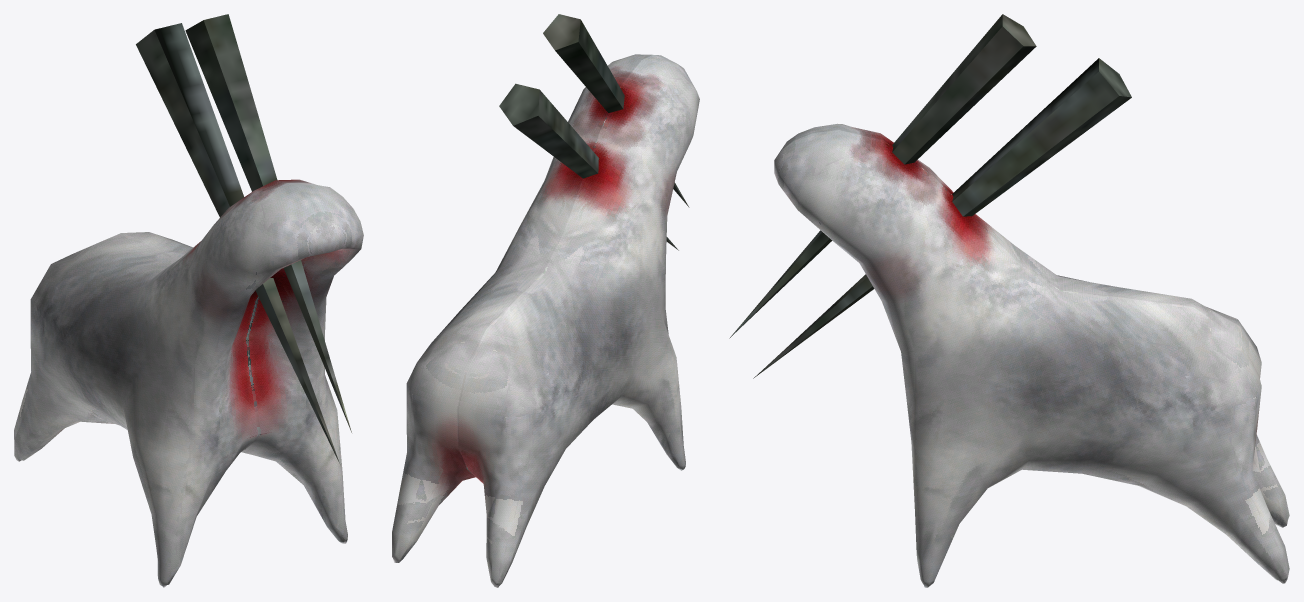
Rendered from StabbedSculpt.glb.
The picture shows the model from 3 angles, left to right: view 1: azimuth 30°, elevation 25°; view 2: azimuth 150°, elevation 25°; view 3: azimuth 270°, elevation 25°; orthographic projection. The views are drawn at different scales.
Visible parts, largest first — view 1: Retopo_Sphere, Cylinder; view 2: Retopo_Sphere, Cylinder; view 3: Retopo_Sphere, Cylinder.
Part boxes in pixels (left/top/right/bottom): Retopo_Sphere: left=14, top=179, right=363, bottom=587; Cylinder: left=136, top=14, right=351, bottom=464; Retopo_Sphere: left=392, top=54, right=699, bottom=587; Cylinder: left=499, top=14, right=689, bottom=250; Retopo_Sphere: left=774, top=123, right=1289, bottom=587; Cylinder: left=729, top=14, right=1131, bottom=378.
Bounding box in the file's own units: 2.22 × 5.87 × 5.58.
Materials: 2 (2 with a texture image).
